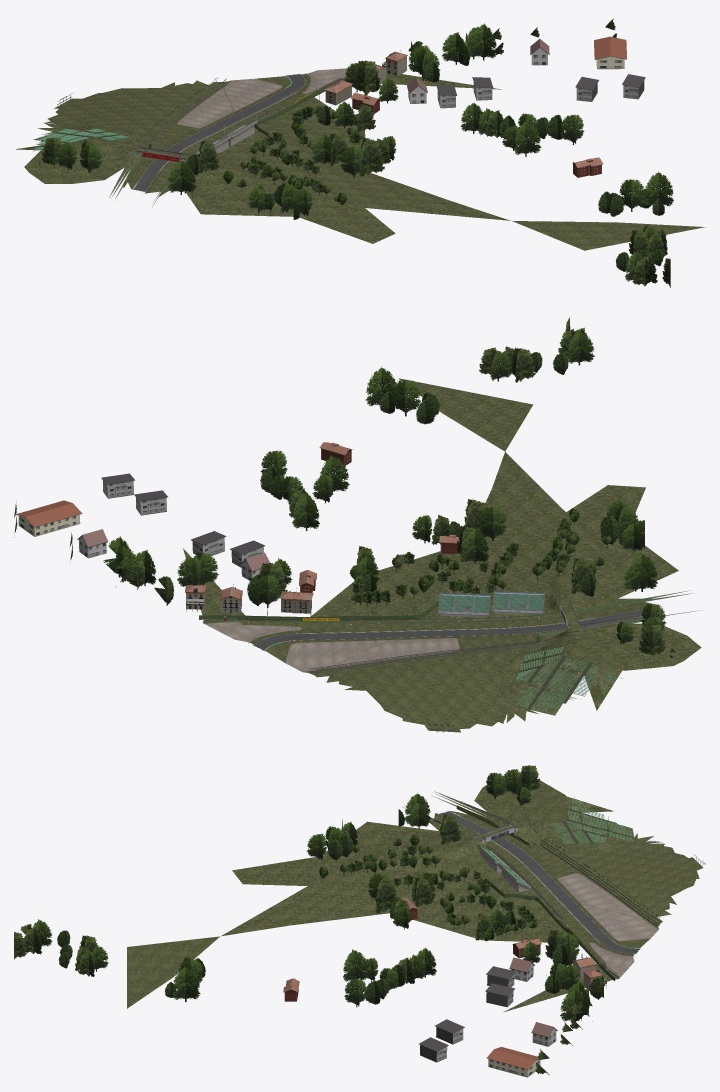
3 views of the same model, one above another, from view 1: azimuth 30°, elevation 25°; view 2: azimuth 150°, elevation 25°; view 3: azimuth 270°, elevation 25° (orthographic). The views are drawn at different scales.
Parts seen in each view (by area): view 1: tile_t16; view 2: tile_t16; view 3: tile_t16.
Boxes of the visible parts, <box> form: tile_t16: <box>16,19,705,287</box>; tile_t16: <box>14,317,701,732</box>; tile_t16: <box>14,765,705,1077</box>.
Size of the model in its own units: 508 by 47.55 by 536.
Materials: 26 (26 with a texture image).
